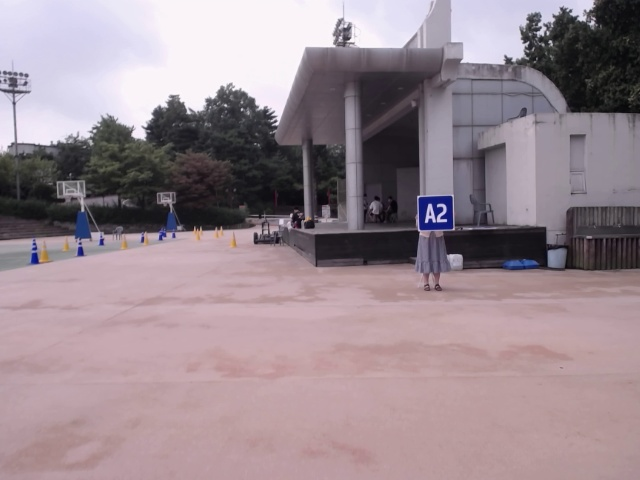delivery_a2: (418, 195, 454, 231)
